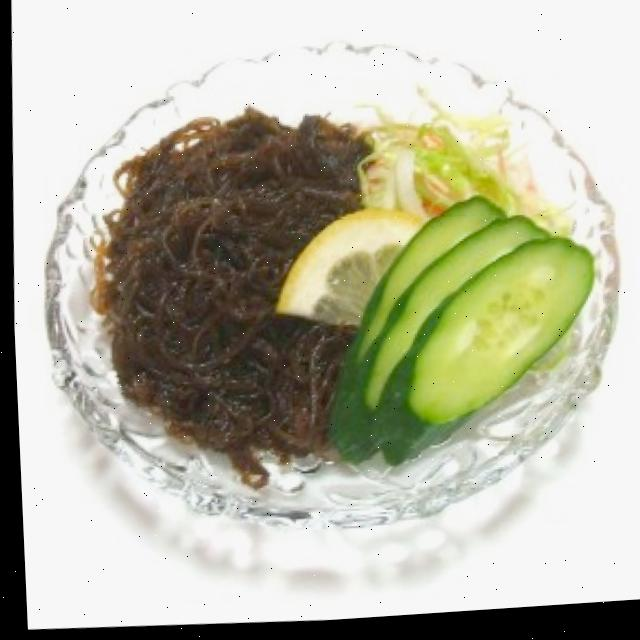蔬菜料理: (12, 9, 635, 575)
